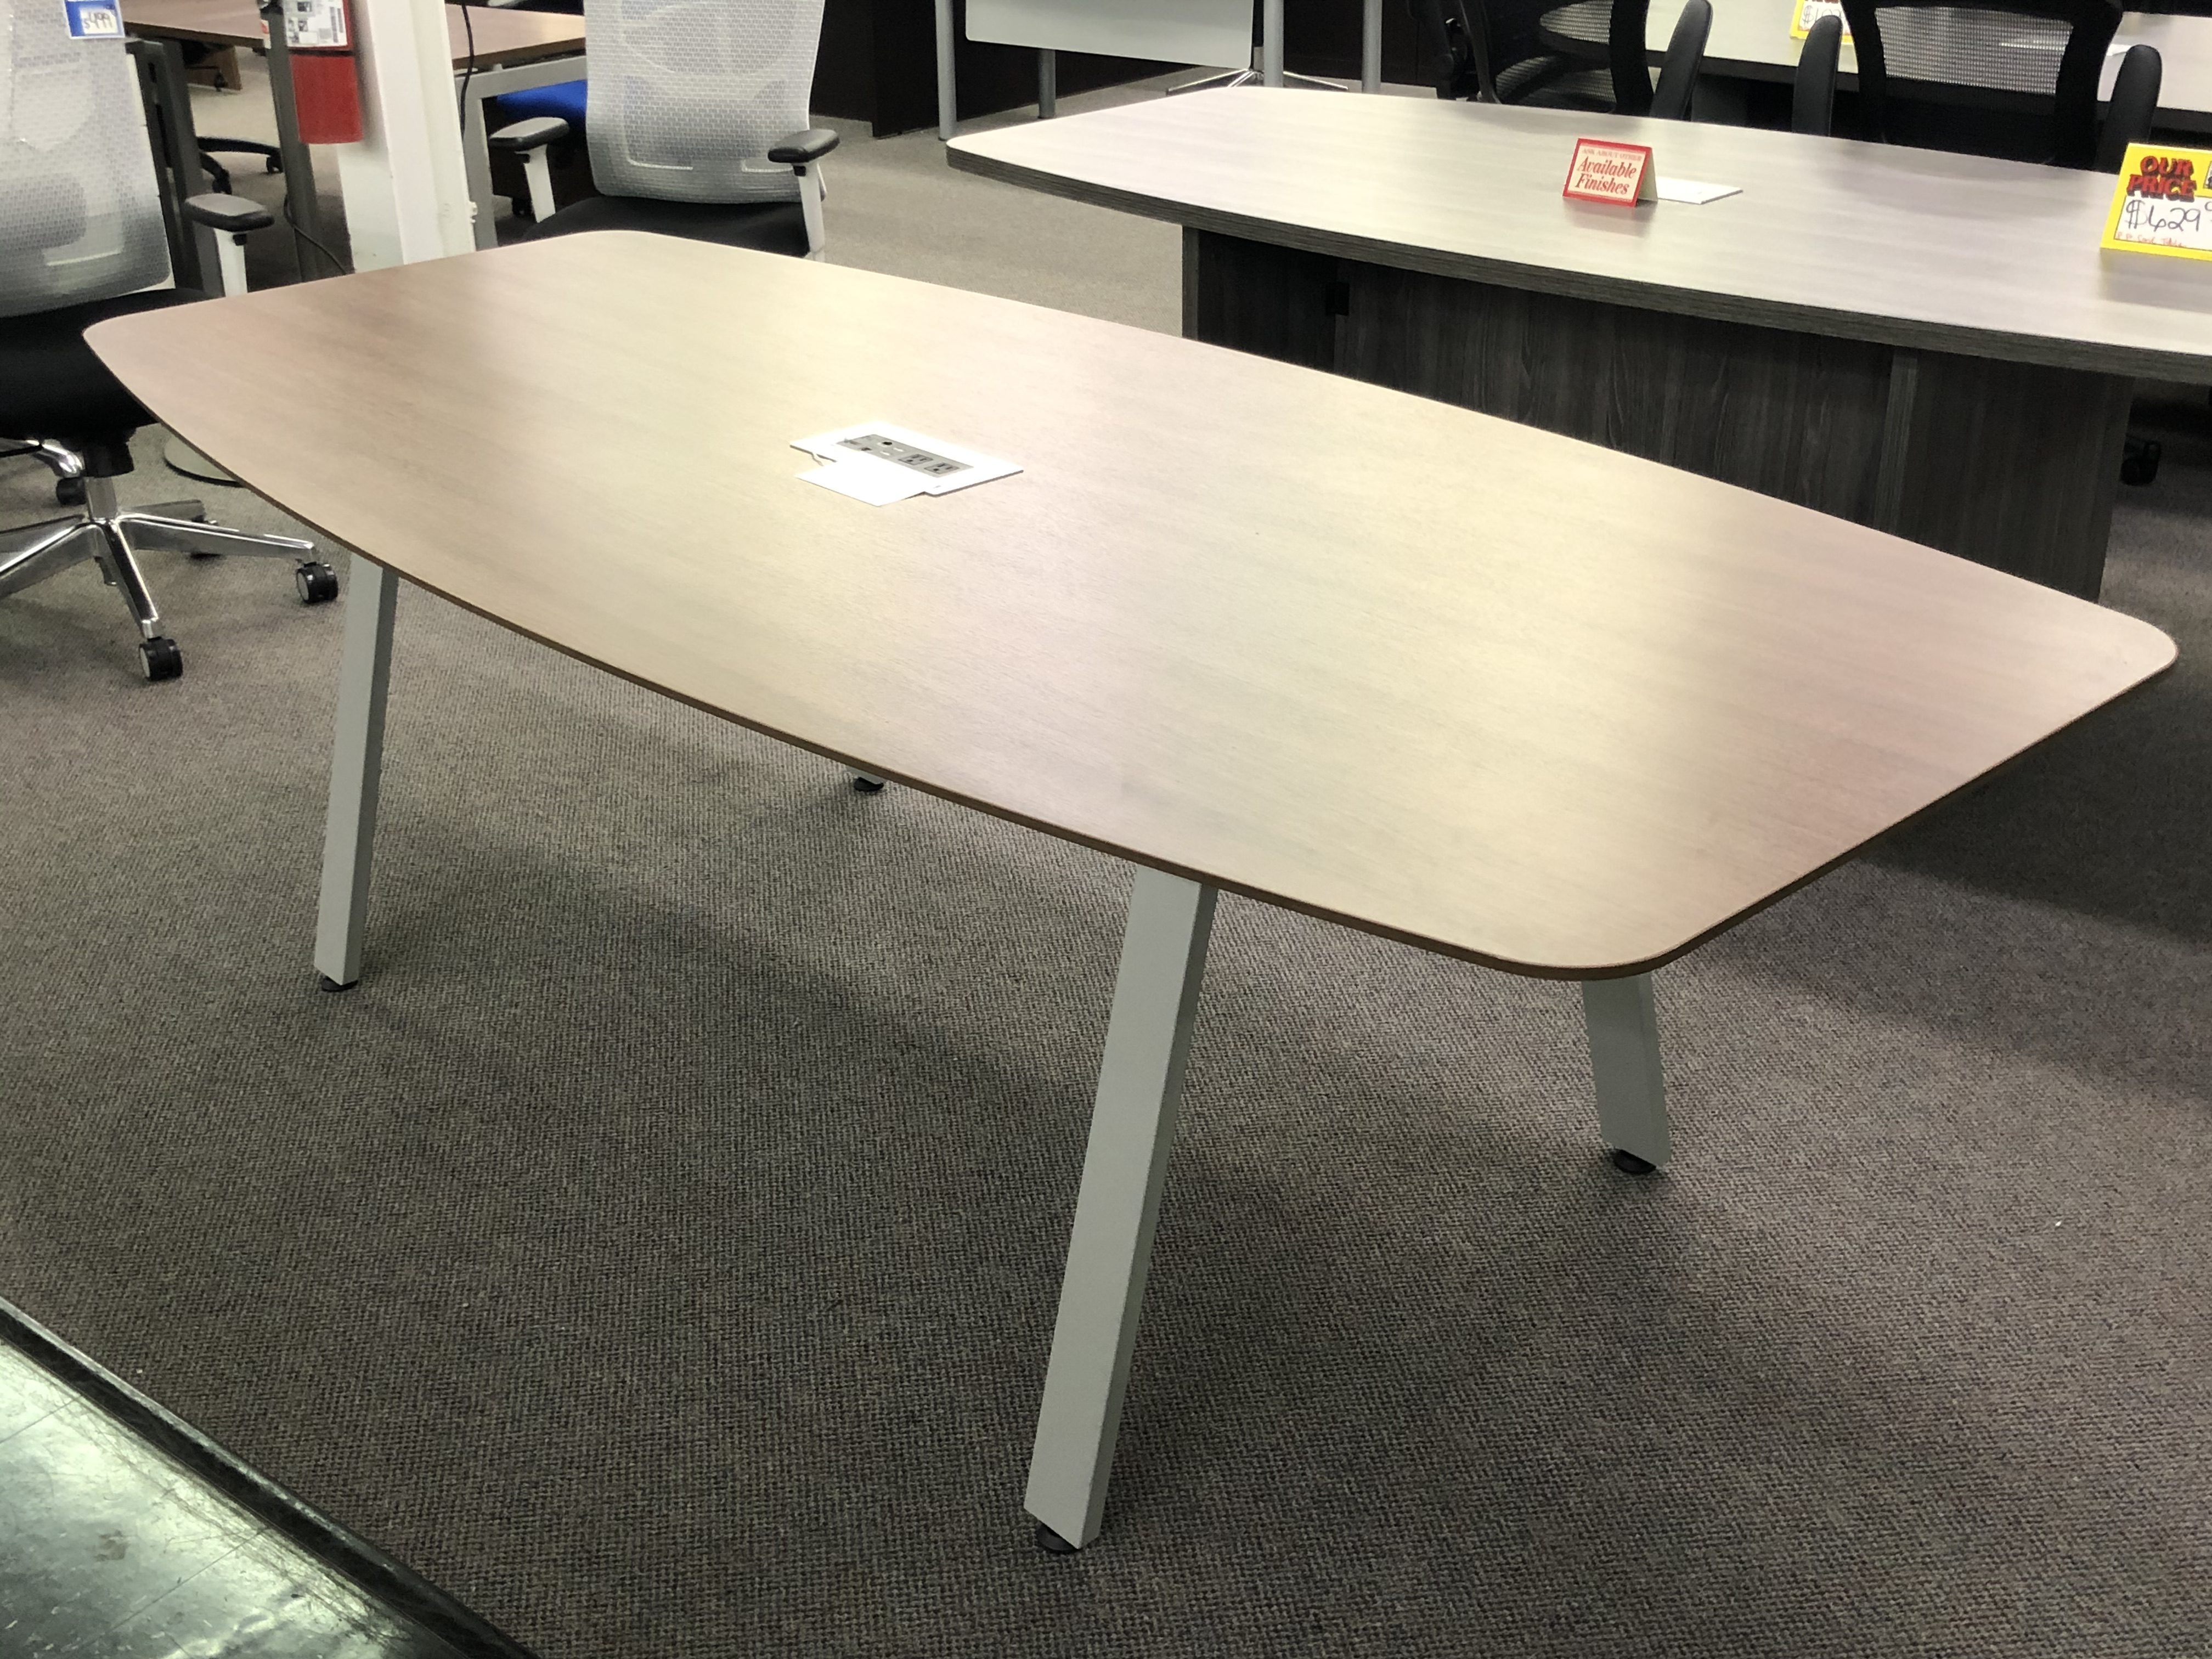conference_table: (84, 229, 2182, 1549), (946, 86, 2212, 608), (110, 5, 596, 231), (1538, 5, 2212, 109)
